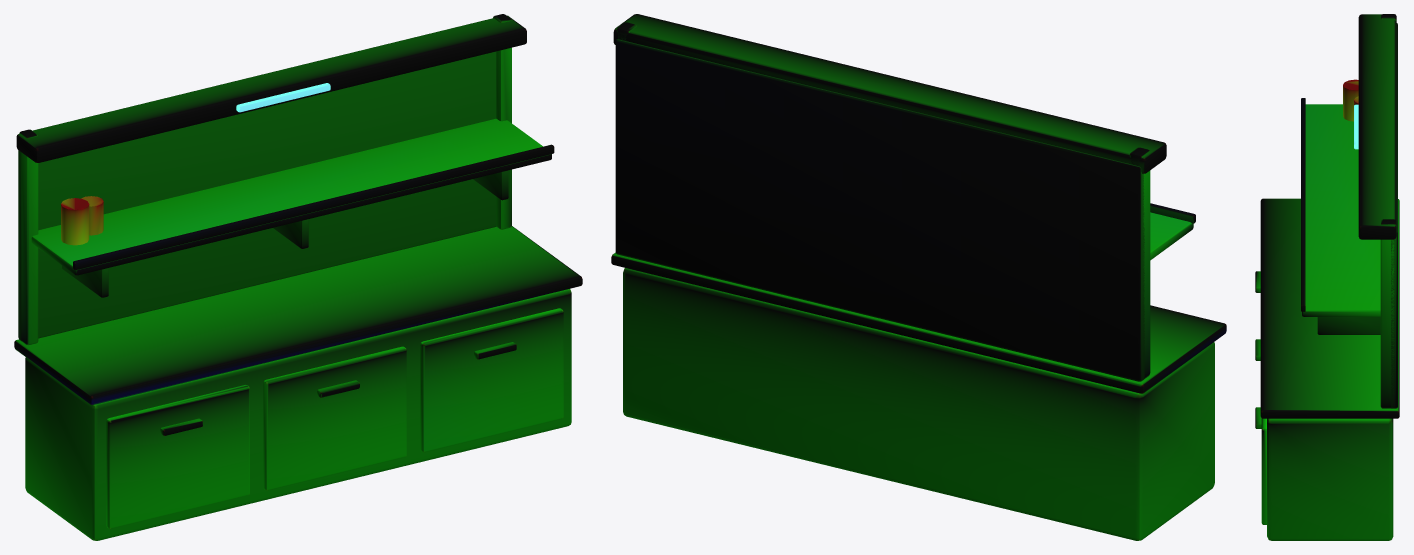
File: hero_wall_counter_shelf.glb
3 renders of one model, left to right at view 1: azimuth 30°, elevation 25°; view 2: azimuth 150°, elevation 25°; view 3: azimuth 270°, elevation 25°, orthographic. The views are drawn at different scales.
Visible parts, largest first — view 1: HeroWallCounterShelf; view 2: HeroWallCounterShelf; view 3: HeroWallCounterShelf.
Boxes of the visible parts, x1,y1,x2,y2 form: HeroWallCounterShelf: (14, 14, 582, 540); HeroWallCounterShelf: (611, 14, 1226, 540); HeroWallCounterShelf: (1255, 14, 1399, 540).
Size of the model in its own units: 3.2 by 2.24 by 0.915.
